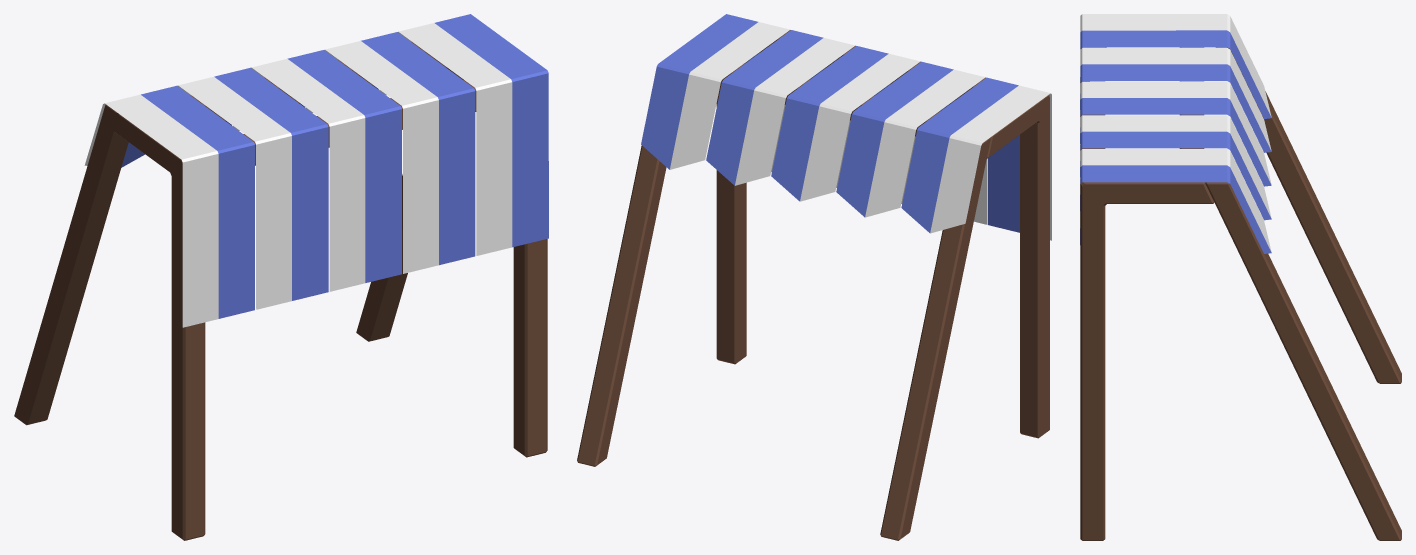
The model's file is Stall_02.fbx.
3 renders of one model, left to right at view 1: azimuth 30°, elevation 25°; view 2: azimuth 150°, elevation 25°; view 3: azimuth 270°, elevation 25°, orthographic. The views are drawn at different scales.
Parts seen in each view (by area): view 1: Stall_02; view 2: Stall_02; view 3: Stall_02.
Boxes of the visible parts, x1,y1,x2,y2 form: Stall_02: (14,14,548,540); Stall_02: (577,14,1051,540); Stall_02: (1080,14,1401,540).
Size of the model in its own units: 201 by 200 by 162.
